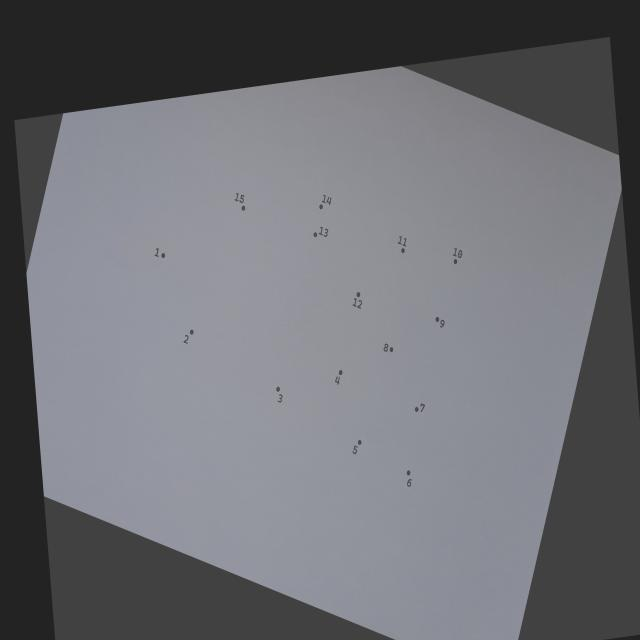Dot: (161, 252, 166, 258), (406, 470, 411, 476), (338, 370, 343, 375), (453, 259, 458, 264), (389, 347, 394, 352), (356, 292, 361, 297), (242, 205, 246, 211), (276, 386, 280, 392), (319, 204, 323, 210), (401, 248, 405, 254), (436, 316, 440, 322), (358, 439, 362, 445), (415, 406, 419, 412), (314, 232, 318, 237), (190, 329, 193, 335)
DotNumber: (234, 193, 246, 211), (319, 194, 332, 210), (352, 292, 362, 309), (314, 226, 328, 238), (183, 329, 194, 344), (398, 236, 407, 253), (453, 248, 462, 264), (352, 440, 362, 454), (334, 370, 343, 385), (154, 248, 166, 258), (435, 316, 445, 328), (276, 386, 283, 403), (415, 402, 425, 413), (384, 343, 394, 353), (407, 470, 412, 487)
Number: (322, 194, 332, 206), (234, 193, 244, 204), (352, 298, 362, 309), (453, 248, 463, 258), (319, 226, 328, 237), (398, 236, 407, 247), (154, 248, 160, 258), (183, 334, 189, 344), (420, 402, 425, 413), (277, 394, 283, 403), (440, 318, 445, 328), (335, 376, 340, 385), (353, 445, 358, 454), (407, 478, 412, 487), (384, 343, 388, 352)
